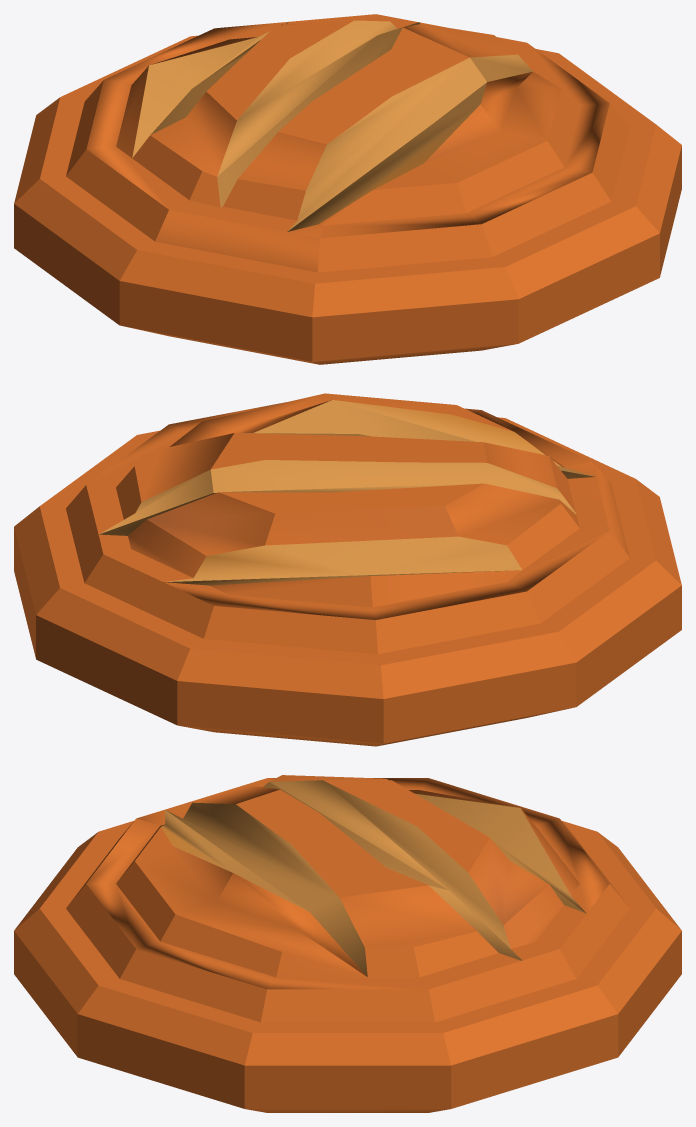
Rendered from bread_LOW.fbx.
3 renders of one model, top to bottom at view 1: azimuth 30°, elevation 25°; view 2: azimuth 150°, elevation 25°; view 3: azimuth 270°, elevation 25°, orthographic. The views are drawn at different scales.
Parts seen in each view (by area): view 1: Circle.001; view 2: Circle.001; view 3: Circle.001.
Boxes of the visible parts, x1=… form: Circle.001: x1=14, y1=14, x2=681, y2=364; Circle.001: x1=14, y1=393, x2=681, y2=746; Circle.001: x1=14, y1=775, x2=681, y2=1112.
Bounding box in the file's own units: 40.54 × 12.01 × 42.61.
